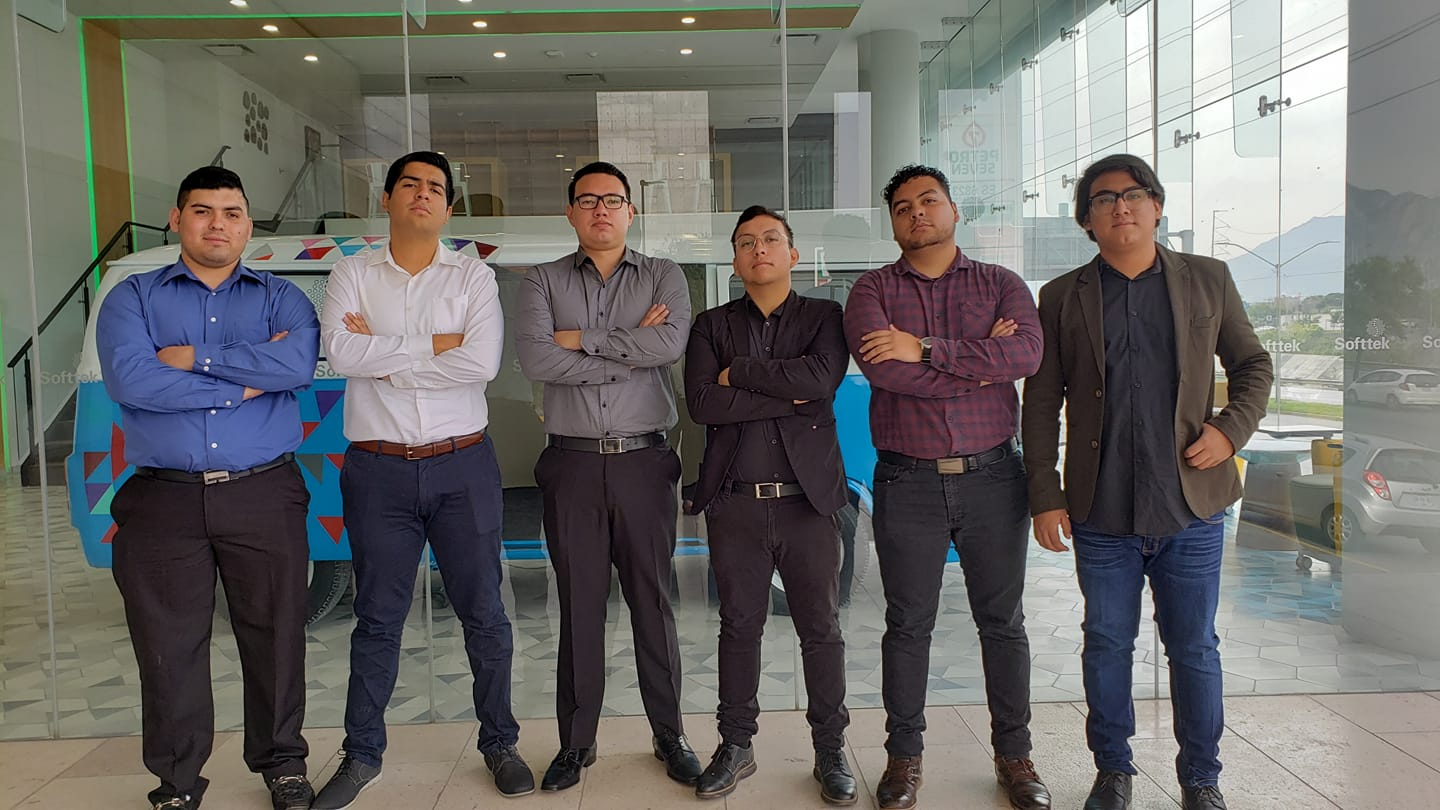Yoshi: (842, 153, 1081, 707)
